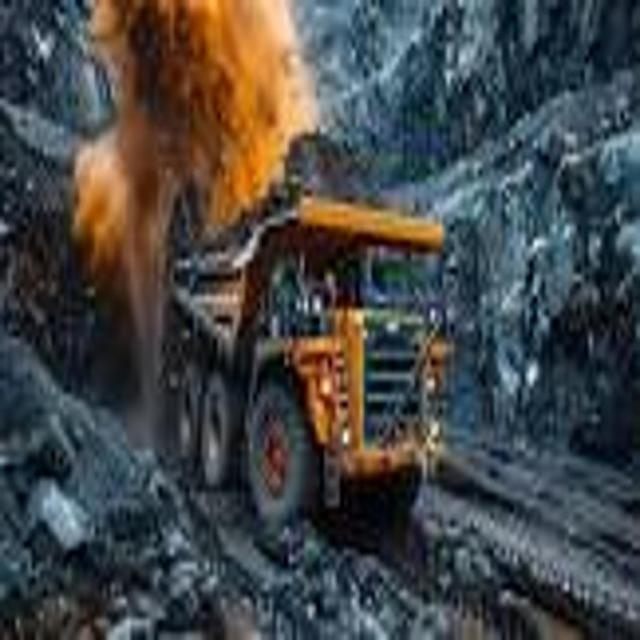dump_truck: (163, 193, 451, 566)
